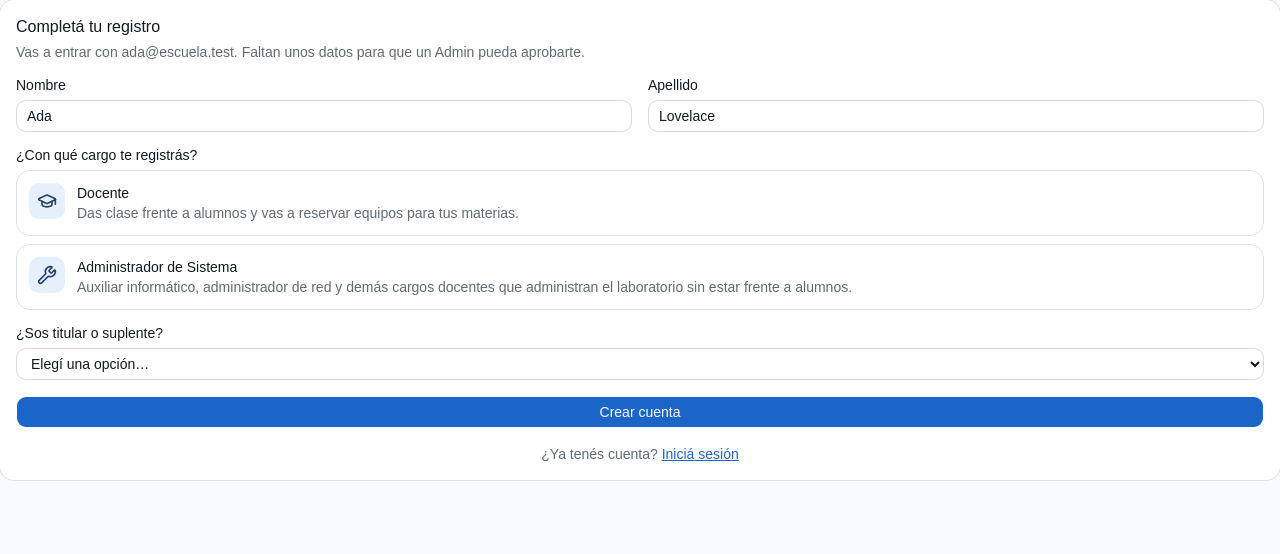
Test: RegistroConGoogle › sin elegir cargo ni rol, no manda nada
Click the button "Crear cuenta" at (640, 412), box [16,396,1264,428]
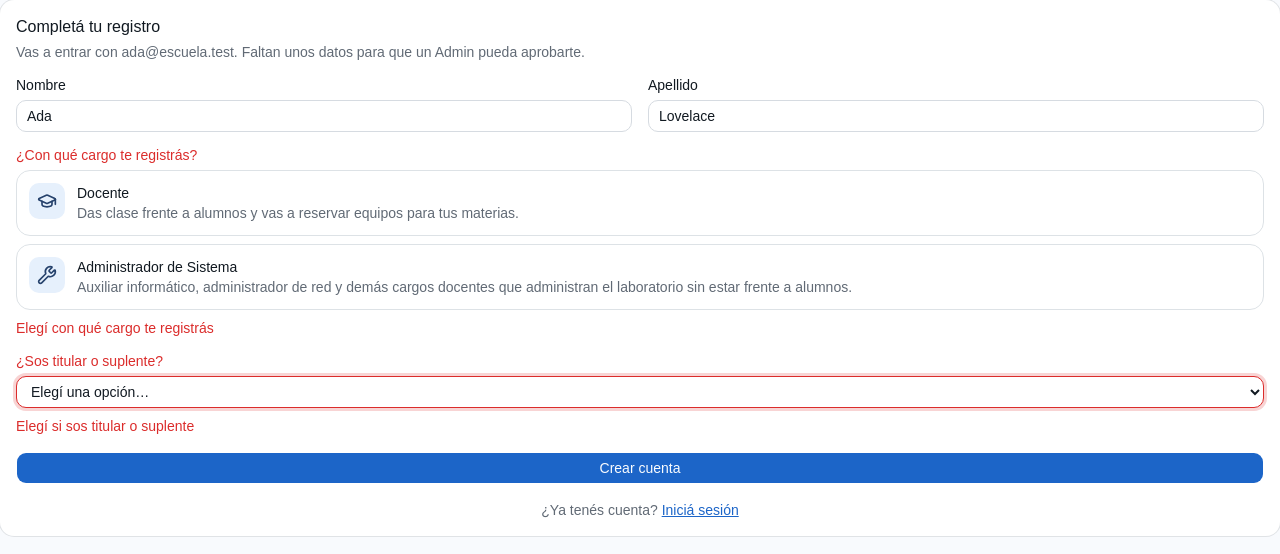
Check: the text "Elegí con qué cargo te registrás" is shown, box [16,320,214,336]
